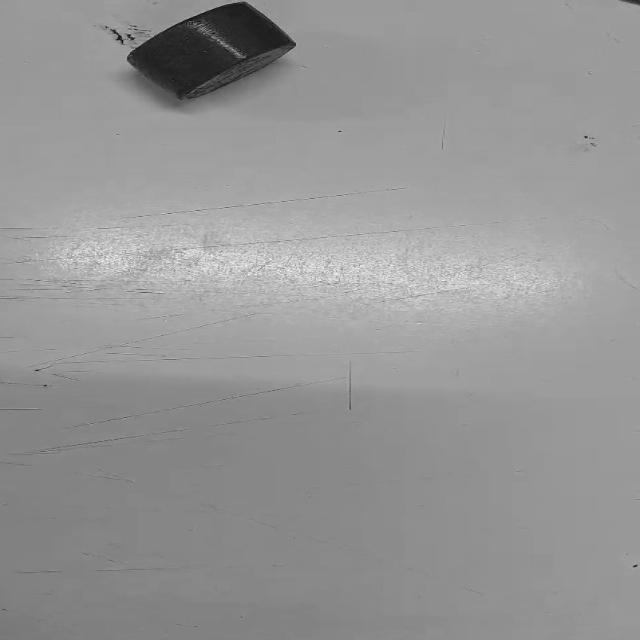rcircle: (128, 2, 295, 100)
